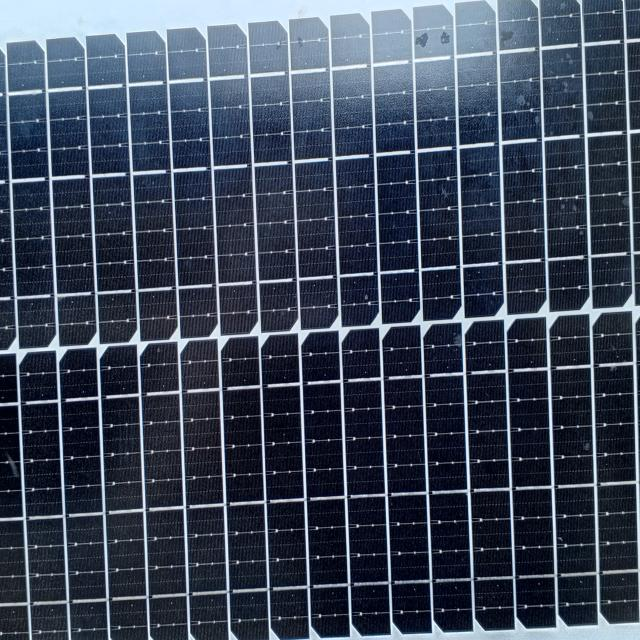Clean: (2, 15, 639, 640)
